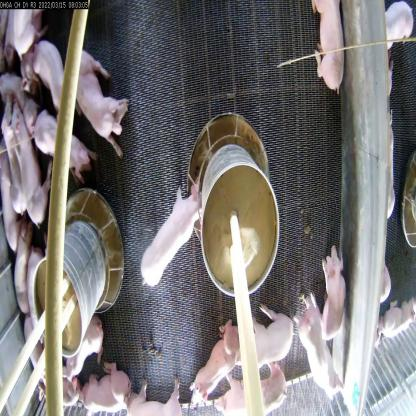Pig: (64, 44, 129, 159), (142, 182, 200, 293), (6, 98, 53, 230), (290, 293, 345, 404), (218, 308, 296, 378), (22, 320, 80, 408), (31, 111, 96, 182), (216, 362, 291, 415), (307, 0, 346, 96), (184, 336, 237, 406), (3, 108, 32, 219), (78, 358, 131, 416), (32, 41, 73, 115), (317, 242, 347, 343), (58, 316, 109, 373), (125, 378, 185, 415), (1, 142, 21, 252), (378, 291, 416, 342), (384, 0, 416, 55), (14, 225, 30, 315)
